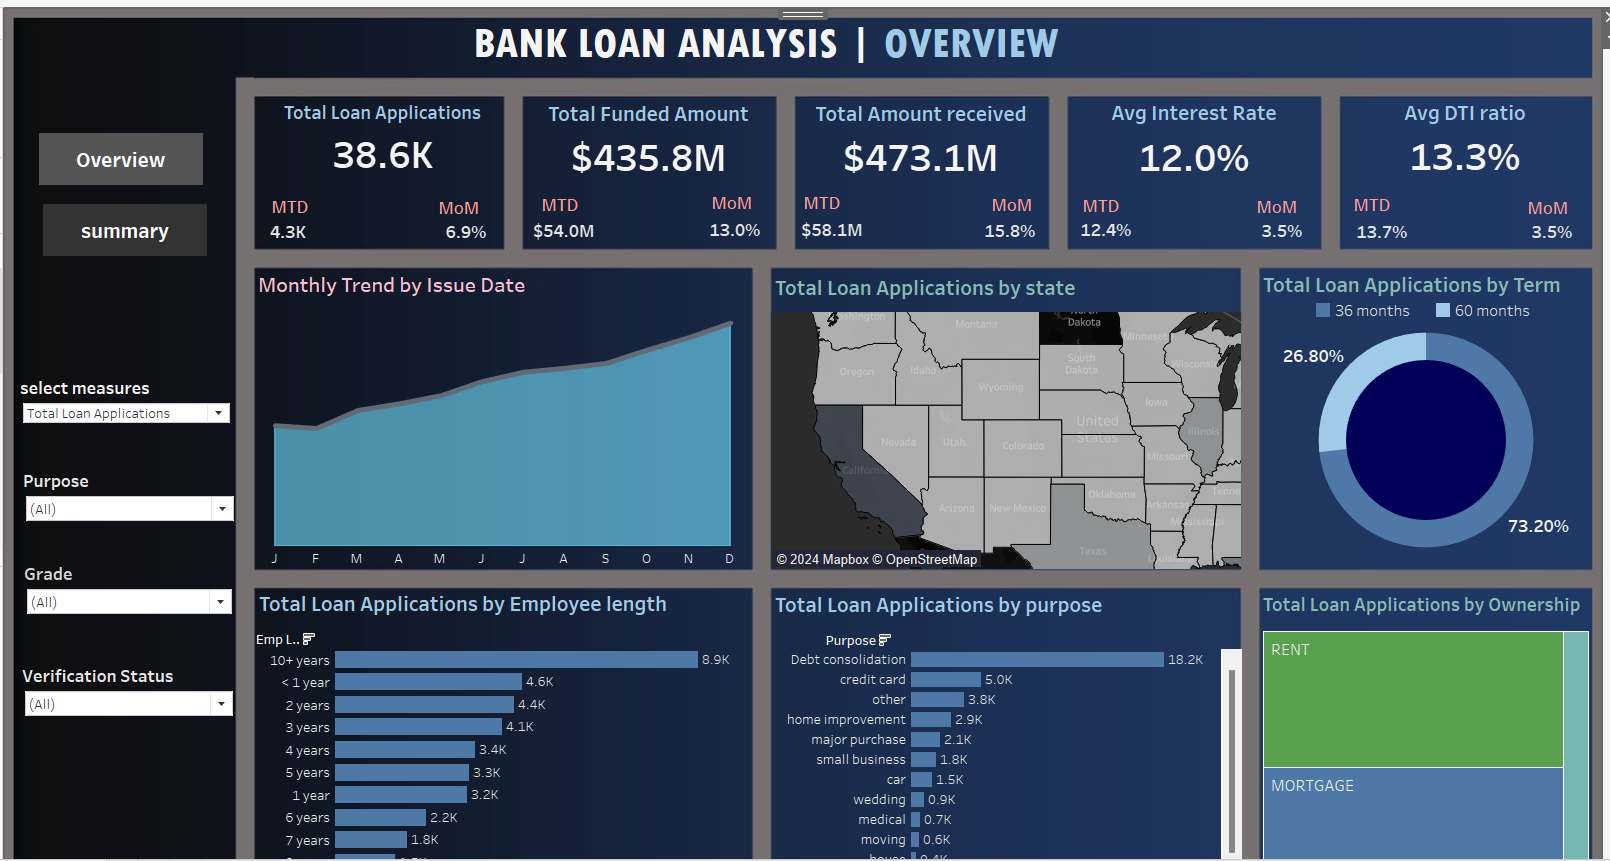

Layout of this report page (visuals, bound fields, positions):
{"tool":"tableau","page":{"name":"Overview","canvas":[1600,900],"ordinal":0},"visuals":[{"type":"image","param":"D:/Data Analytics/Bank Loan Analysis/Tableau Background 2.jpg","box":[0,0,1600,900]},{"type":"text","box":[467,5,647,61]},{"type":"worksheet","title":"Avg Interest Rate","mark":"Automatic","box":[1065,87,252,81]},{"type":"worksheet","title":"Avg DTI ratio","mark":"Automatic","box":[1337,87,250,78]},{"type":"worksheet","title":"Total Loan Applications","mark":"Automatic","box":[253,88,253,76]},{"type":"worksheet","title":"Total Funded Amount","mark":"Automatic","box":[519,88,253,78]},{"type":"worksheet","title":"Total Amount received","mark":"Automatic","box":[793,88,250,78]},{"type":"dashboard-object","box":[45,156,164,52]},{"type":"text","box":[705,185,64,21]},{"type":"text","box":[797,185,56,21]},{"type":"text","box":[535,187,56,21]},{"type":"text","box":[985,187,64,21]},{"type":"text","box":[1347,187,56,21]},{"type":"text","box":[1076,188,56,21]},{"type":"text","box":[265,189,56,21]},{"type":"text","box":[1250,189,64,21]},{"type":"text","box":[432,190,64,21]},{"type":"text","box":[1521,190,64,21]},{"type":"worksheet","title":"MTD Avg Interest Rate","mark":"Automatic","box":[1065,207,76,30]},{"type":"worksheet","title":"MoM Funded amount","mark":"Automatic","box":[694,208,75,28]},{"type":"worksheet","title":"MoM Avg Interest Rate","mark":"Automatic","box":[1240,209,77,27]},{"type":"worksheet","title":"MTD Avg DTI ratio","mark":"Automatic","box":[1337,209,83,30]},{"type":"worksheet","title":"MTD Amount Received","mark":"Automatic","box":[792,210,74,23]},{"type":"worksheet","title":"MoM Amount Received","mark":"Automatic","box":[971,211,72,23]},{"type":"worksheet","title":"MoM Avg DTI ratio","mark":"Automatic","box":[1511,211,76,25]},{"type":"worksheet","title":"MTD Total Applications","mark":"Automatic","box":[254,212,62,23]},{"type":"worksheet","title":"MoM Total Applications","mark":"Automatic","box":[425,212,75,23]},{"type":"worksheet","title":"MTD Funded Amount","mark":"Automatic","box":[522,212,74,21]},{"type":"worksheet","title":"Monthly Trend by Issue Date","mark":"Automatic","rows":["Calculation_2077566868165050378","Calculation_2077566868165050378"],"cols":["issue_date"],"box":[251,259,497,302]},{"type":"worksheet","title":"Term ","mark":"Pie","rows":["Calculation_2077566868178276364","Calculation_2077566868178276364"],"box":[1256,259,334,305]},{"type":"worksheet","title":"state","mark":"Multipolygon","box":[768,262,470,300]},{"type":"legend","title":"Term ","param":"[federated.0zhvs6p1xfvrm11eckdz00kglfhh].[none:term:nk]","box":[1310,293,275,30]},{"type":"parameter","param":"[Parameters].[Parameter 1]","box":[17,368,213,73]},{"type":"filter","title":"Avg DTI ratio","param":"[federated.0zhvs6p1xfvrm11eckdz00kglfhh].[none:purpose:nk]","box":[20,461,214,85]},{"type":"filter","title":"Avg DTI ratio","param":"[federated.0zhvs6p1xfvrm11eckdz00kglfhh].[none:grade:nk]","box":[21,554,211,77]},{"type":"worksheet","title":"Employee length","mark":"Automatic","rows":["emp_length"],"cols":["Calculation_2077566868165050378"],"box":[252,578,497,311]},{"type":"worksheet","title":"purpose","mark":"Automatic","rows":["purpose"],"cols":["Calculation_2077566868165050378"],"box":[768,579,471,310]},{"type":"worksheet","title":"Ownership","mark":"Automatic","box":[1256,580,333,310]},{"type":"filter","title":"Avg DTI ratio","param":"[federated.0zhvs6p1xfvrm11eckdz00kglfhh].[none:verification_status:nk]","box":[19,656,214,78]}]}

Visuals, with their boxes on the page's 1600x900 design canvas (x1, y1, x2, y2). These are canvas units, not pixel positions in the 1610x861 screenshot, which may show the page scaled, cropped or inside an application window:
image: locate(0, 0, 1600, 900)
text: locate(467, 5, 1114, 66)
"Avg Interest Rate" worksheet: locate(1065, 87, 1317, 168)
"Avg DTI ratio" worksheet: locate(1337, 87, 1587, 165)
"Total Loan Applications" worksheet: locate(253, 88, 506, 164)
"Total Funded Amount" worksheet: locate(519, 88, 772, 166)
"Total Amount received" worksheet: locate(793, 88, 1043, 166)
dashboard-object: locate(45, 156, 209, 208)
text: locate(705, 185, 769, 206)
text: locate(797, 185, 853, 206)
text: locate(535, 187, 591, 208)
text: locate(985, 187, 1049, 208)
text: locate(1347, 187, 1403, 208)
text: locate(1076, 188, 1132, 209)
text: locate(265, 189, 321, 210)
text: locate(1250, 189, 1314, 210)
text: locate(432, 190, 496, 211)
text: locate(1521, 190, 1585, 211)
"MTD Avg Interest Rate" worksheet: locate(1065, 207, 1141, 237)
"MoM Funded amount" worksheet: locate(694, 208, 769, 236)
"MoM Avg Interest Rate" worksheet: locate(1240, 209, 1317, 236)
"MTD Avg DTI ratio" worksheet: locate(1337, 209, 1420, 239)
"MTD Amount Received" worksheet: locate(792, 210, 866, 233)
"MoM Amount Received" worksheet: locate(971, 211, 1043, 234)
"MoM Avg DTI ratio" worksheet: locate(1511, 211, 1587, 236)
"MTD Total Applications" worksheet: locate(254, 212, 316, 235)
"MoM Total Applications" worksheet: locate(425, 212, 500, 235)
"MTD Funded Amount" worksheet: locate(522, 212, 596, 233)
"Monthly Trend by Issue Date" worksheet: locate(251, 259, 748, 561)
"Term " worksheet (Pie marks): locate(1256, 259, 1590, 564)
"state" worksheet (Multipolygon marks): locate(768, 262, 1238, 562)
"Term " legend: locate(1310, 293, 1585, 323)
parameter: locate(17, 368, 230, 441)
"Avg DTI ratio" filter: locate(20, 461, 234, 546)
"Avg DTI ratio" filter: locate(21, 554, 232, 631)
"Employee length" worksheet: locate(252, 578, 749, 889)
"purpose" worksheet: locate(768, 579, 1239, 889)
"Ownership" worksheet: locate(1256, 580, 1589, 890)
"Avg DTI ratio" filter: locate(19, 656, 233, 734)
